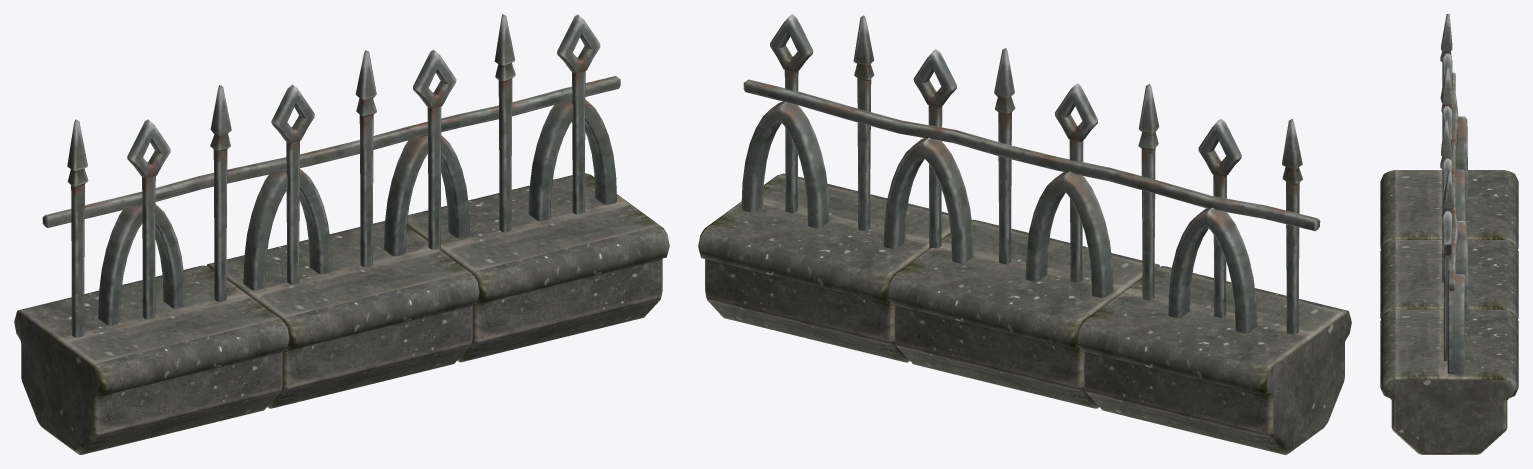
3 renders of one model, left to right at view 1: azimuth 30°, elevation 25°; view 2: azimuth 150°, elevation 25°; view 3: azimuth 270°, elevation 25°, orthographic. The views are drawn at different scales.
Parts seen in each view (by area): view 1: SM_DeathTemple_Roof_Detail_02v1_LOD0; view 2: SM_DeathTemple_Roof_Detail_02v1_LOD0; view 3: SM_DeathTemple_Roof_Detail_02v1_LOD0.
Part boxes in pixels (<box>): SM_DeathTemple_Roof_Detail_02v1_LOD0: <box>14,14,669,454</box>; SM_DeathTemple_Roof_Detail_02v1_LOD0: <box>698,14,1351,454</box>; SM_DeathTemple_Roof_Detail_02v1_LOD0: <box>1380,14,1518,454</box>.
Size of the model in its own units: 4.08 by 2.14 by 1.12.
Materials: 2 (2 with a texture image).
